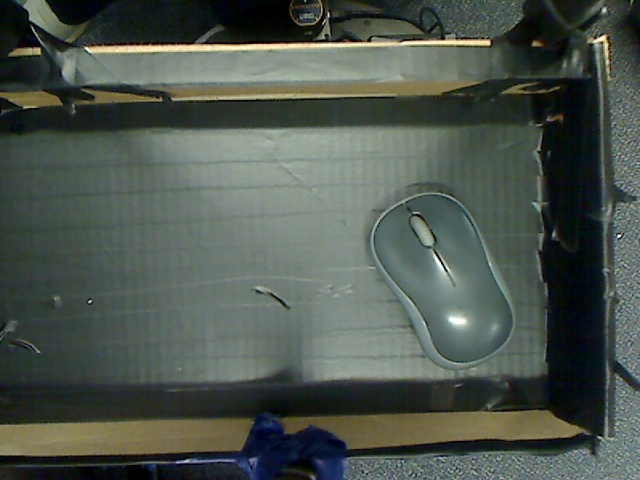mouse: (354, 182, 526, 364)
